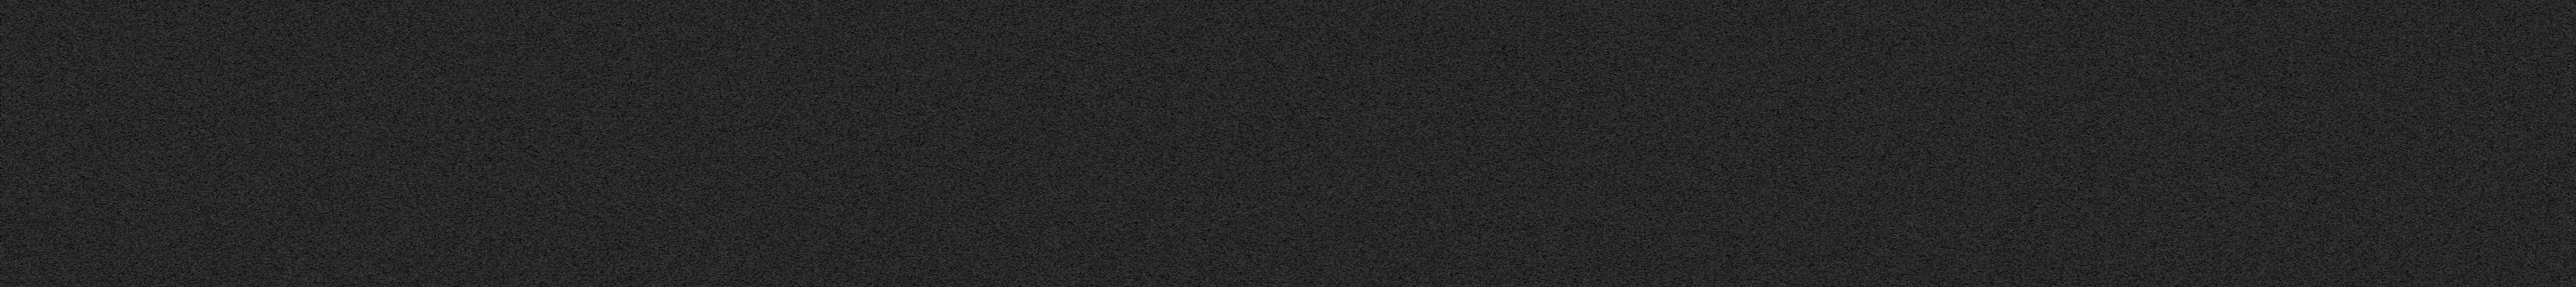wv_am: (2047, 0, 2052, 287)
wv_cw: (894, 0, 897, 287)
wv_lsb: (660, 89, 664, 236), (877, 153, 881, 231), (877, 57, 881, 130), (660, 2, 664, 67), (660, 241, 664, 287), (877, 21, 881, 44), (877, 269, 881, 287), (660, 77, 664, 87), (877, 7, 881, 16), (877, 46, 881, 54), (877, 143, 881, 149), (877, 130, 881, 136), (877, 136, 881, 141), (660, 71, 664, 75), (660, 238, 664, 241), (877, 236, 881, 239), (877, 233, 881, 236), (877, 18, 881, 21), (877, 3, 881, 7), (660, 67, 664, 71), (877, 151, 881, 153)
wv_usb: (1134, 33, 1137, 64), (1134, 215, 1137, 228), (1134, 180, 1135, 198), (1134, 231, 1137, 239), (1134, 246, 1135, 254), (1134, 239, 1135, 246), (1134, 103, 1137, 107), (1134, 280, 1135, 287), (1134, 272, 1135, 279), (1134, 264, 1135, 271), (1134, 174, 1135, 177), (1134, 167, 1135, 171), (1134, 107, 1135, 110), (1134, 71, 1135, 74), (1134, 67, 1135, 71), (1134, 66, 1137, 67), (1134, 256, 1135, 257), (1134, 177, 1135, 179), (1134, 172, 1135, 174)
wv_wbfm: (1436, 0, 1538, 287)
